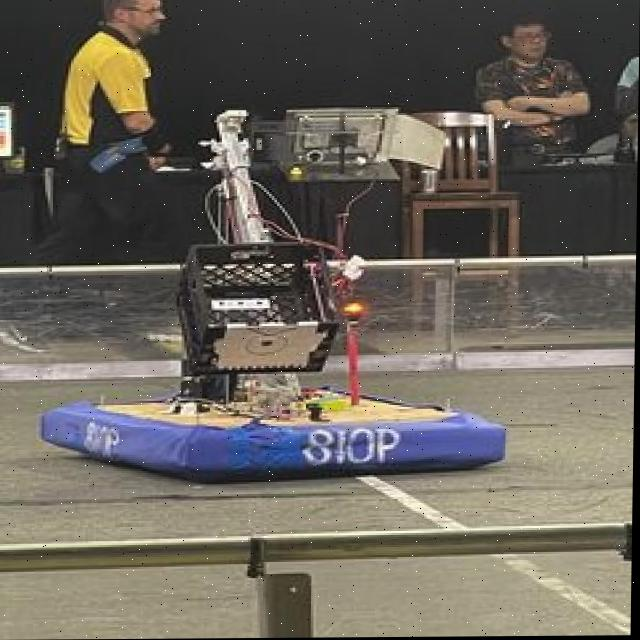robot: (36, 100, 518, 491)
